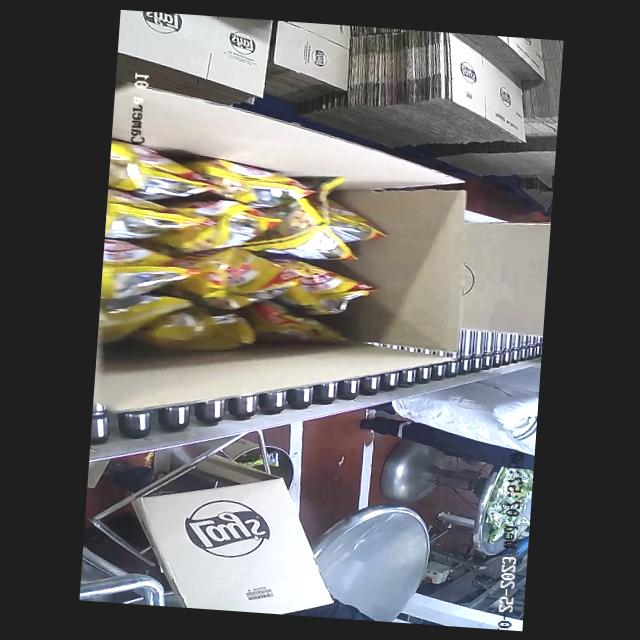salted: (95, 138, 394, 366)
